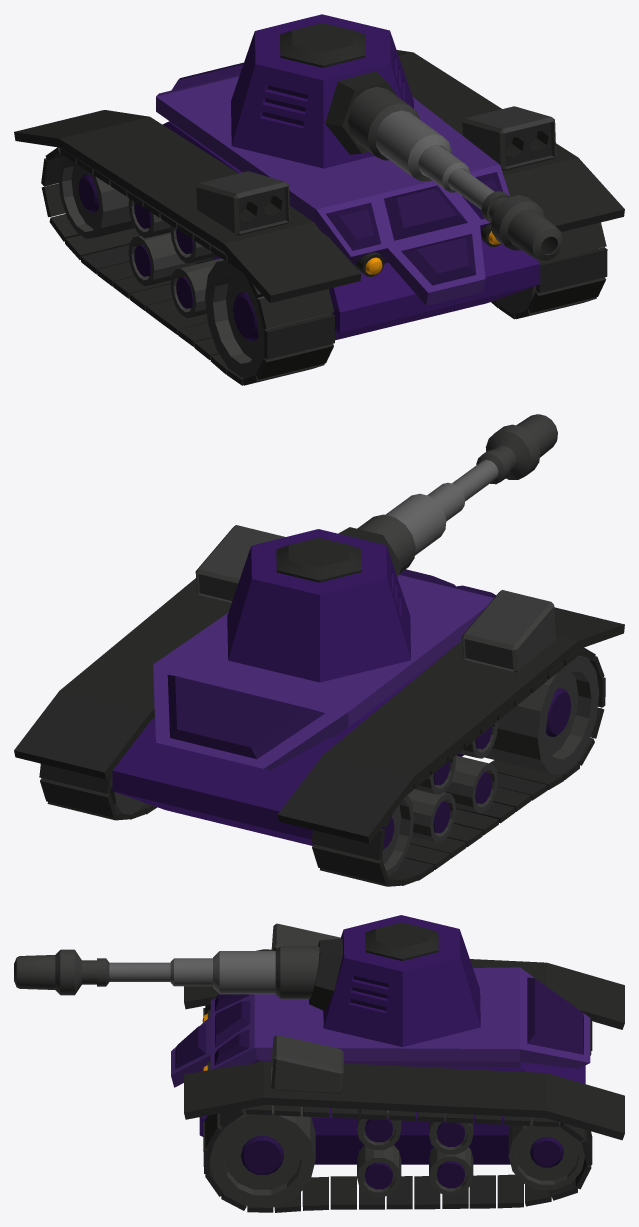
Rendered from Танк1.1.fbx.
3 views of the same model, one above another, from view 1: azimuth 30°, elevation 25°; view 2: azimuth 150°, elevation 25°; view 3: azimuth 270°, elevation 25° (orthographic). The views are drawn at different scales.
Parts seen in each view (by area): view 1: Cylinder.004, Cylinder.010; view 2: Cylinder.004, Cylinder.010; view 3: Cylinder.004, Cylinder.010.
Boxes of the visible parts, x1,y1,x2,y2 form: Cylinder.004: [14, 50, 624, 385]; Cylinder.010: [231, 14, 563, 260]; Cylinder.004: [14, 525, 624, 886]; Cylinder.010: [227, 414, 557, 682]; Cylinder.004: [171, 923, 624, 1212]; Cylinder.010: [14, 915, 480, 1046].
Size of the model in its own units: 464 by 302 by 808.
